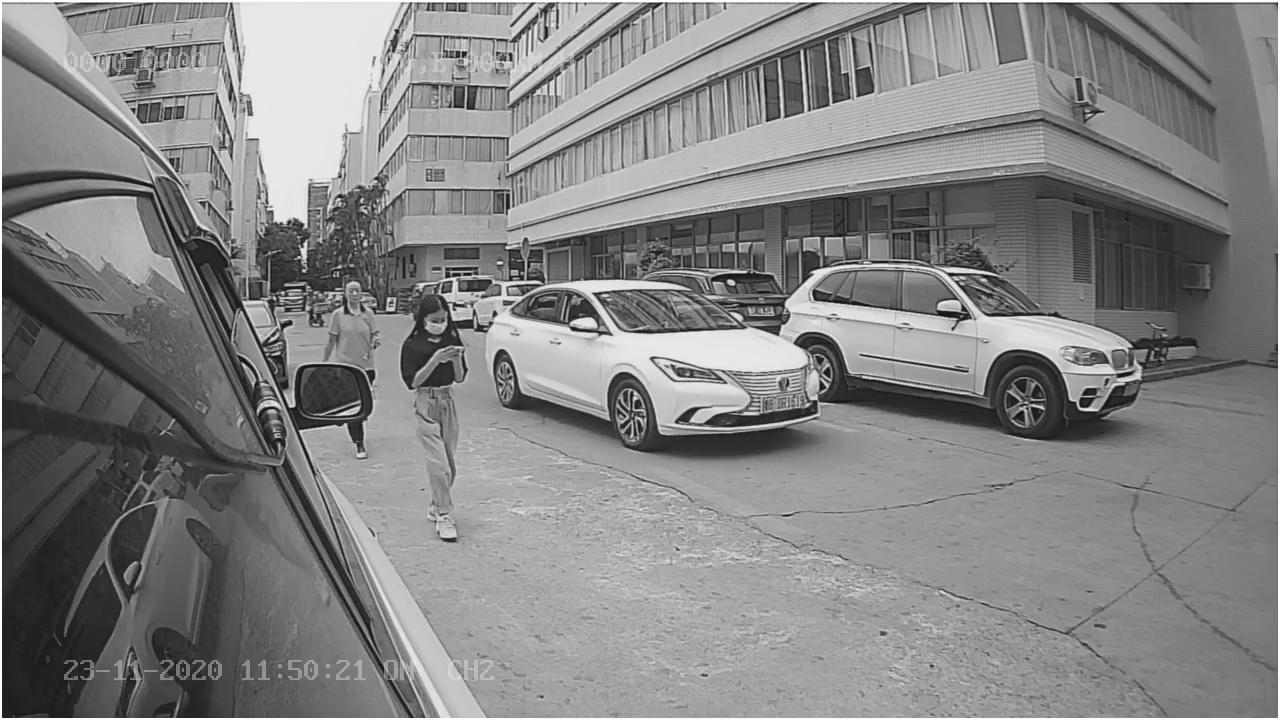person: (400, 291, 474, 538)
